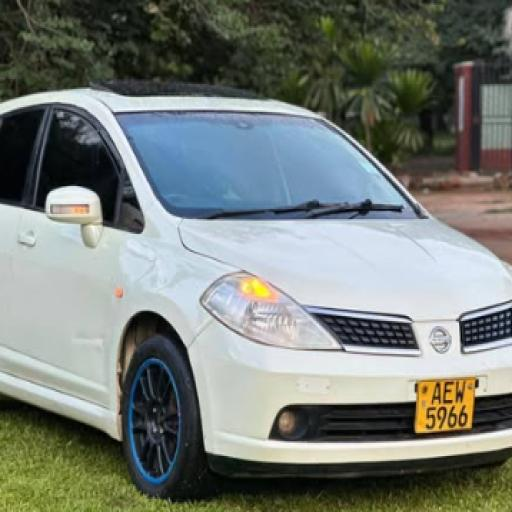number-plates: (417, 380, 473, 432)
